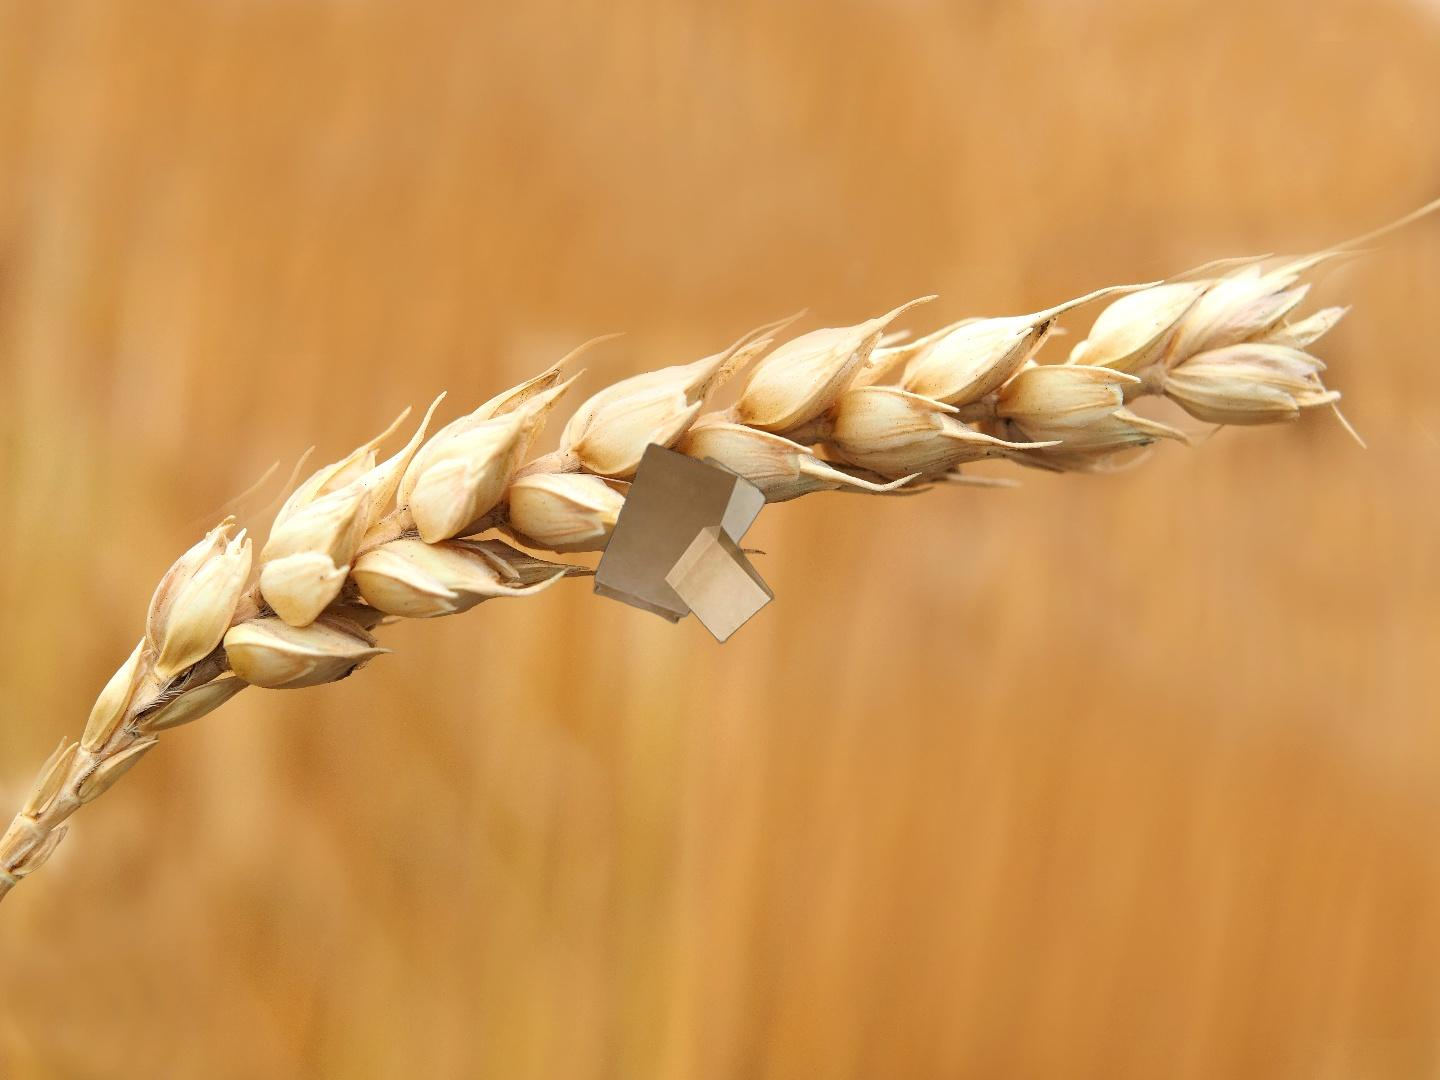paper-bag: (590, 441, 777, 646)
